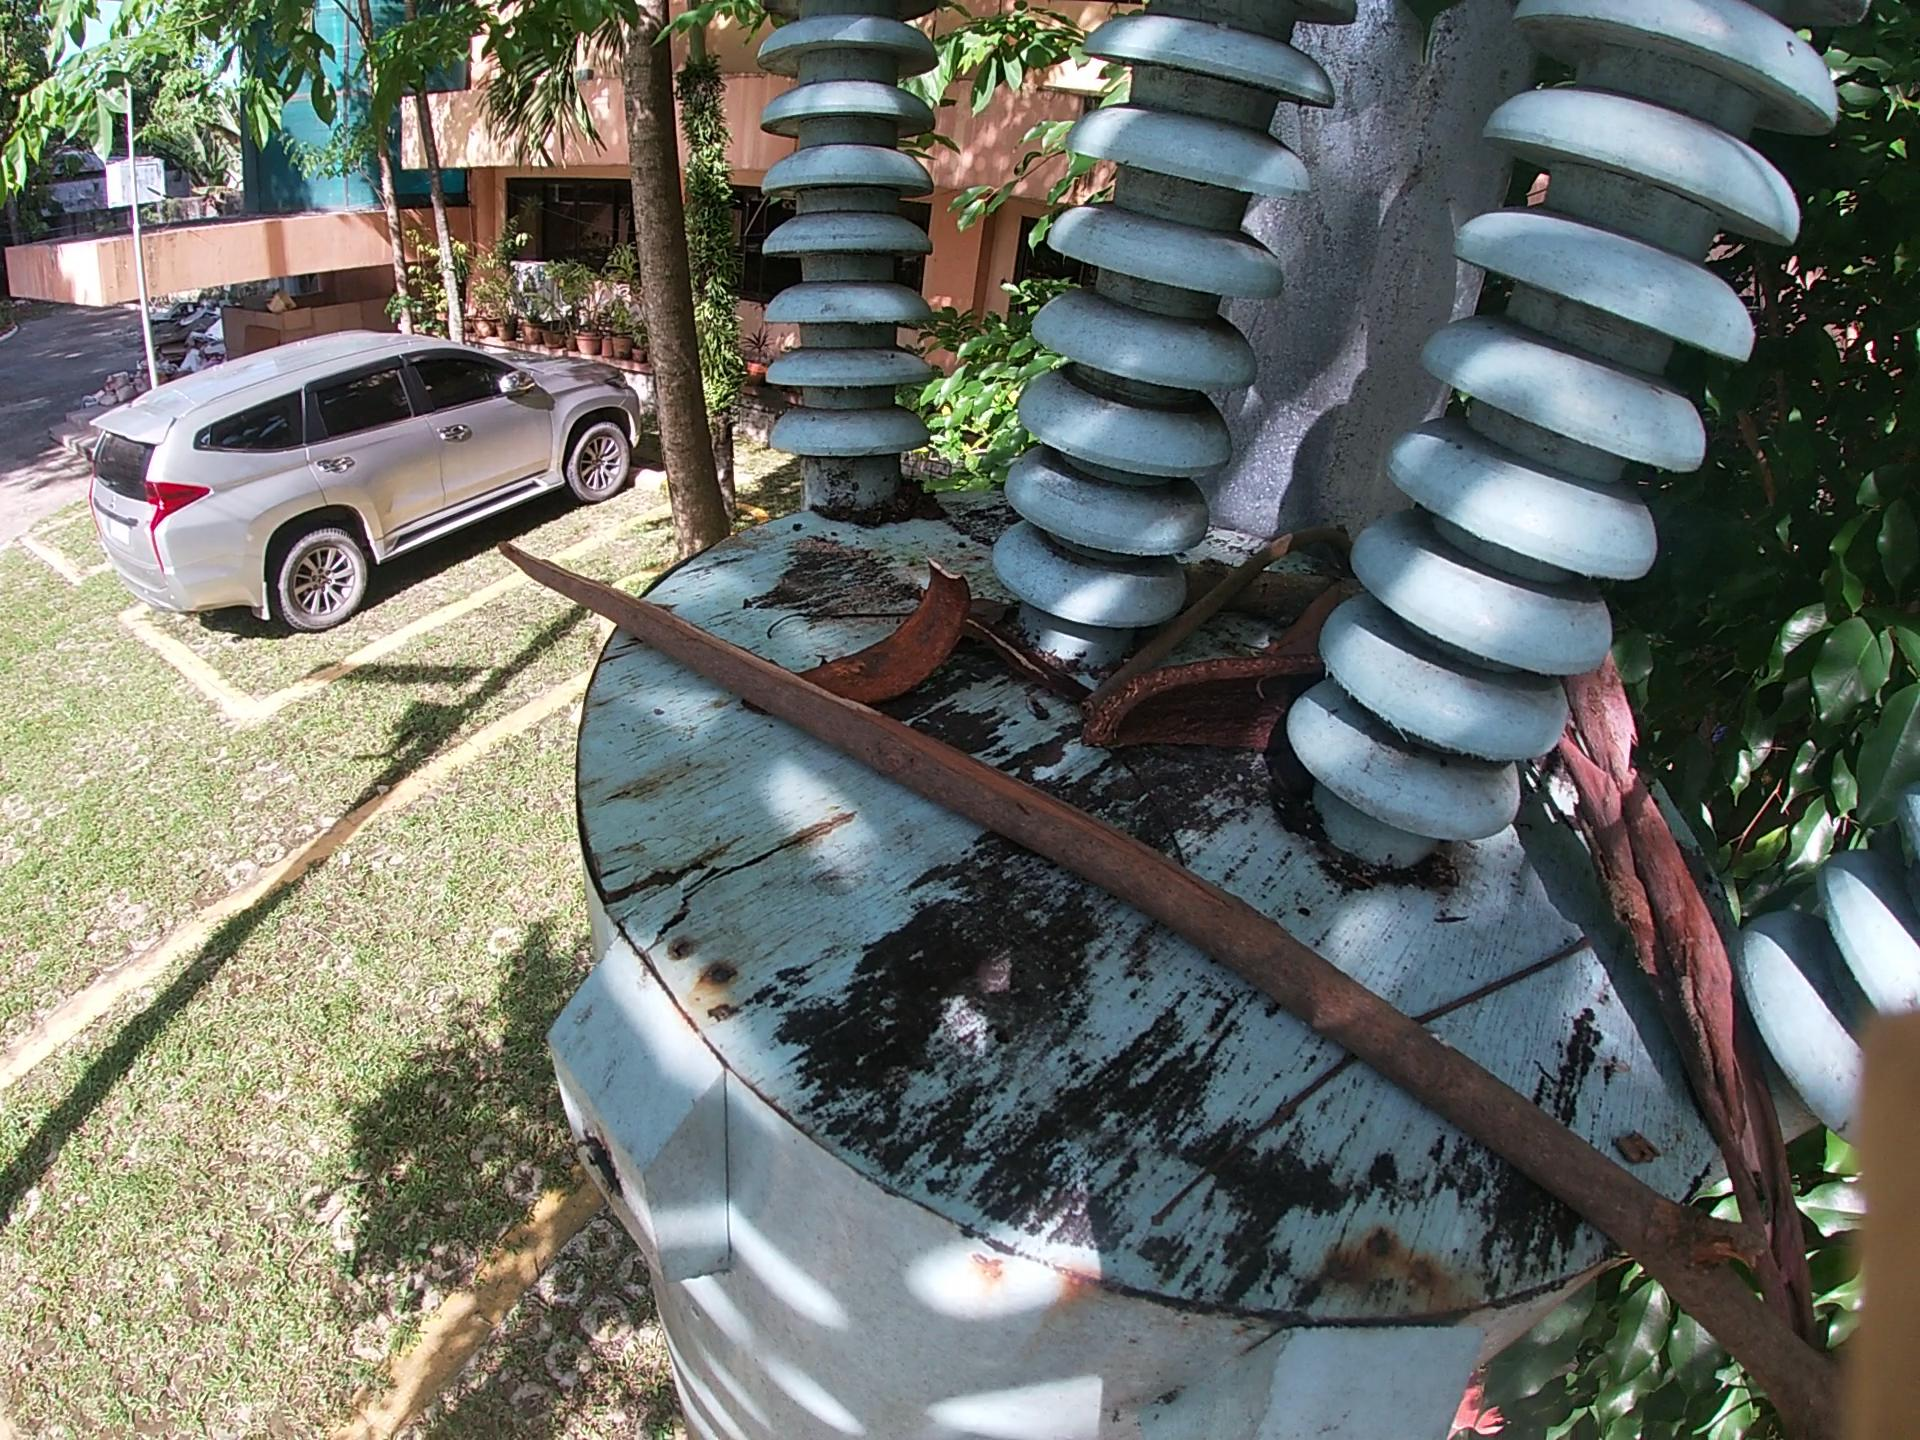leaf: (1250, 566, 1376, 644)
mahogany fruit: (1043, 653, 1342, 771), (809, 557, 969, 708)
tree branch: (491, 529, 1864, 1437), (1566, 616, 1834, 1437), (1147, 924, 1615, 1231), (1093, 522, 1303, 693), (958, 593, 1093, 708), (1158, 567, 1367, 616)
